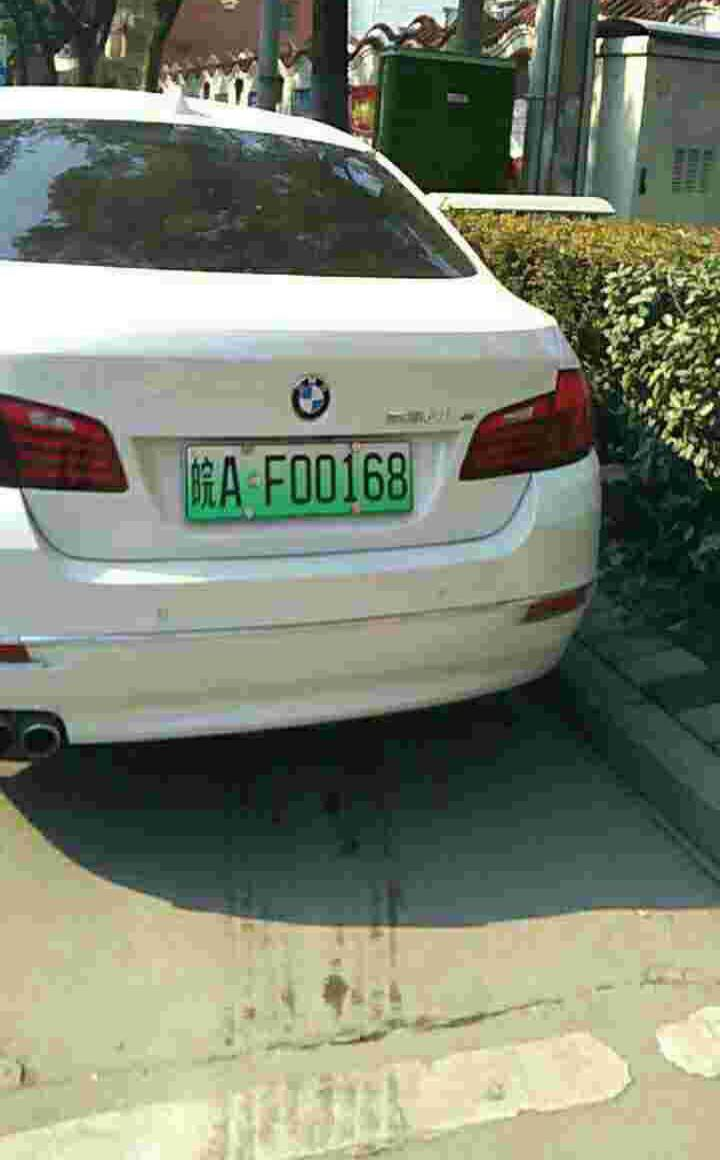car_green: (181, 437, 421, 521)
